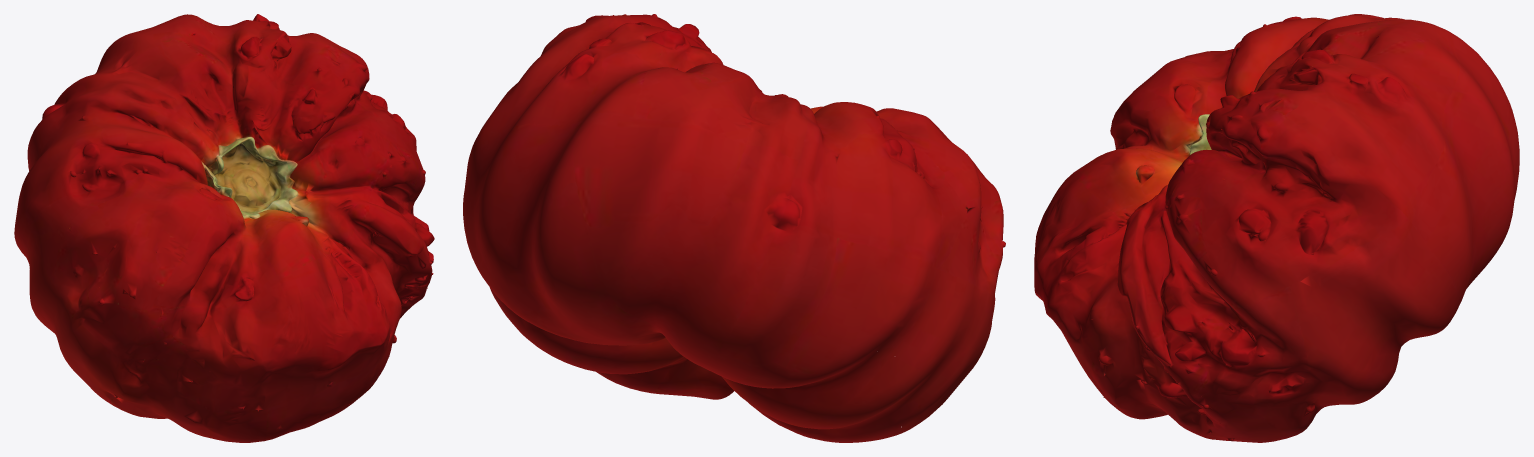
The model's file is overripe.glb.
3 renders of one model, left to right at view 1: azimuth 30°, elevation 25°; view 2: azimuth 150°, elevation 25°; view 3: azimuth 270°, elevation 25°, orthographic. The views are drawn at different scales.
Parts seen in each view (by area): view 1: tripo_node_faae028a-cde3-4506-99d2-55d01bfa22a1; view 2: tripo_node_faae028a-cde3-4506-99d2-55d01bfa22a1; view 3: tripo_node_faae028a-cde3-4506-99d2-55d01bfa22a1.
Boxes of the visible parts, x1,y1,x2,y2 form: tripo_node_faae028a-cde3-4506-99d2-55d01bfa22a1: (14, 14, 434, 442); tripo_node_faae028a-cde3-4506-99d2-55d01bfa22a1: (463, 14, 1005, 442); tripo_node_faae028a-cde3-4506-99d2-55d01bfa22a1: (1034, 14, 1519, 442).
Size of the model in its own units: 0.9796 by 0.826 by 0.9523.
Materials: 1 (1 with a texture image).
